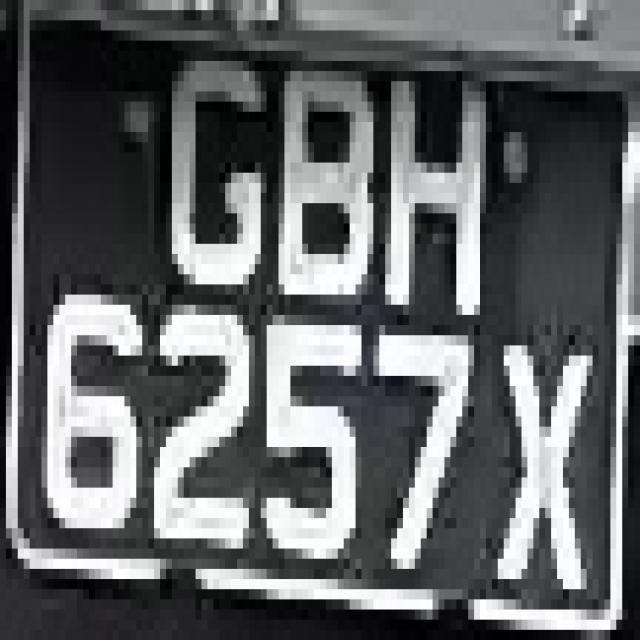2: (148, 294, 261, 569)
5: (260, 305, 356, 589)
6: (30, 274, 142, 559)
7: (350, 304, 480, 610)
B: (267, 71, 373, 335)
G: (166, 20, 267, 305)
H: (373, 61, 504, 345)
X: (492, 294, 604, 600)
